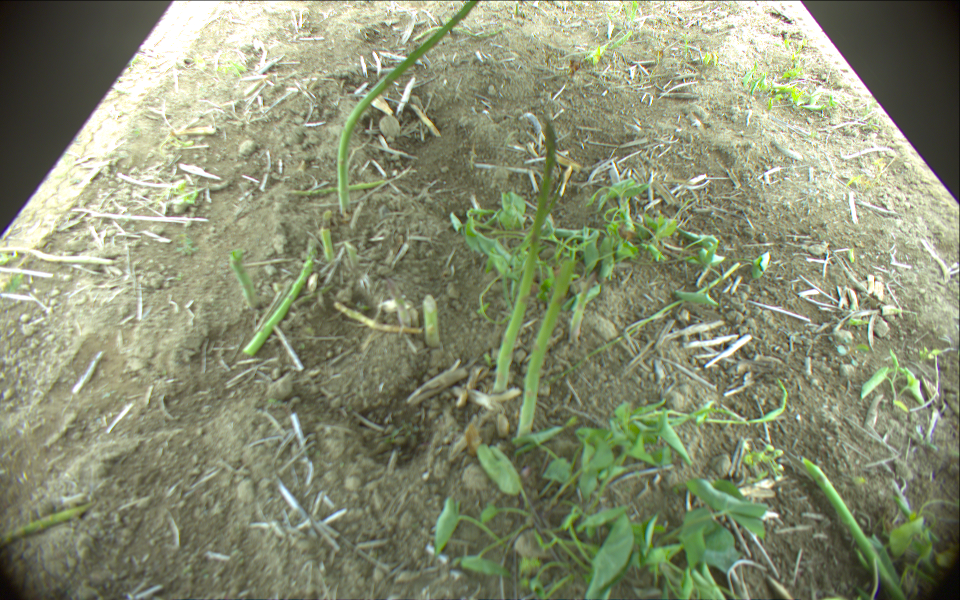aspa: (337, 1, 477, 213), (494, 122, 557, 392), (795, 452, 905, 600), (519, 257, 578, 440), (243, 259, 314, 356), (1, 499, 97, 544), (569, 274, 599, 342), (228, 248, 261, 308), (289, 179, 384, 192), (423, 294, 439, 347), (323, 210, 333, 264)
